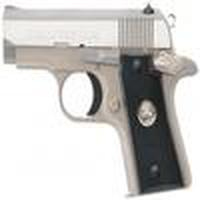gun: (1, 2, 199, 196)
